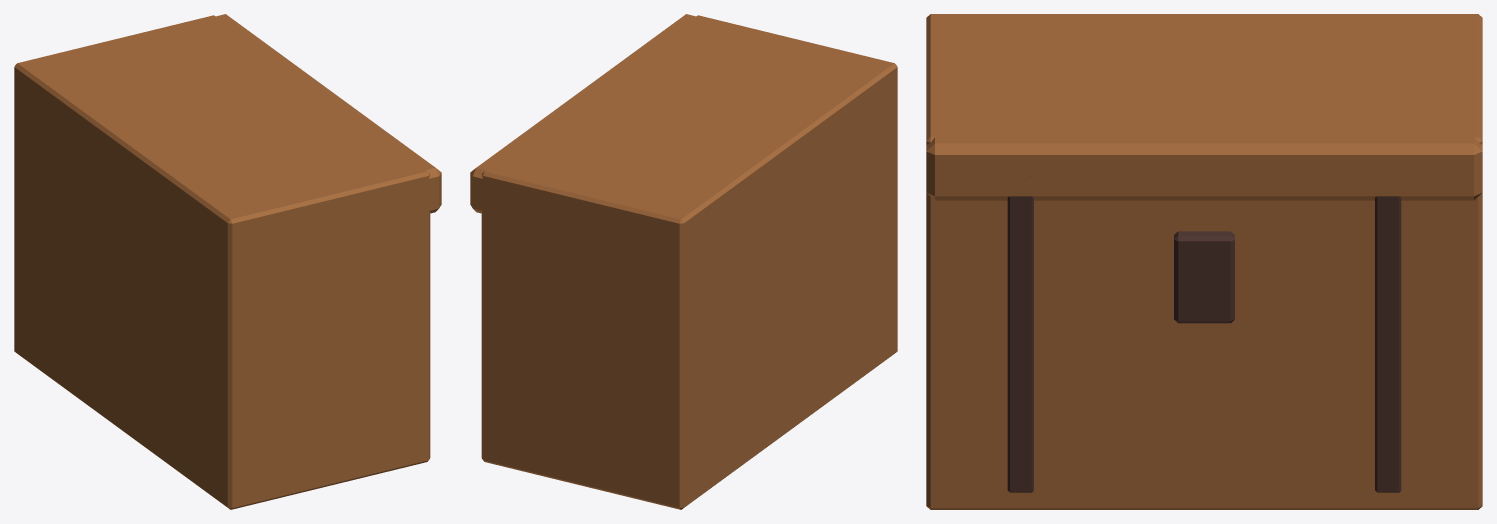
The model's file is coffre_fer.glb.
3 renders of one model, left to right at view 1: azimuth 30°, elevation 25°; view 2: azimuth 150°, elevation 25°; view 3: azimuth 270°, elevation 25°, orthographic. The views are drawn at different scales.
Visible parts, largest first — view 1: coffre_fer; view 2: coffre_fer; view 3: coffre_fer.
Part boxes in pixels (<box>): coffre_fer: <box>14,14,441,509</box>; coffre_fer: <box>470,14,897,509</box>; coffre_fer: <box>926,14,1482,509</box>.
Size of the model in its own units: 0.66 by 0.85 by 1.15.
Materials: 1 (1 with a texture image).
